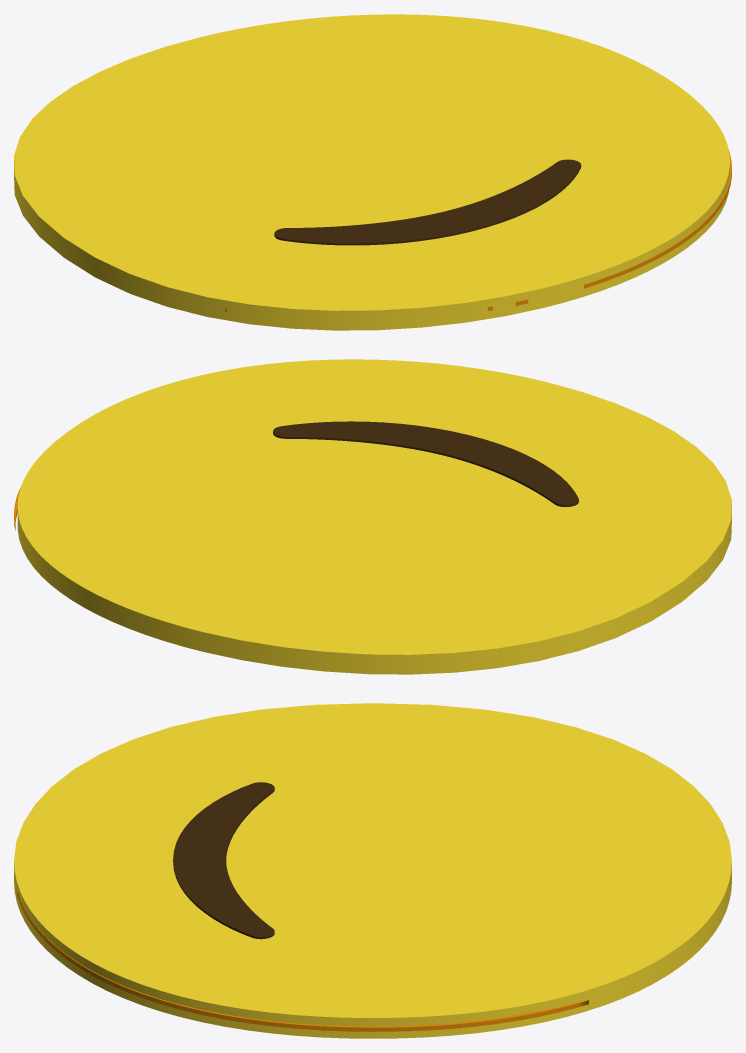
File: emoji_u1f60a.glb
3 renders of one model, top to bottom at view 1: azimuth 30°, elevation 25°; view 2: azimuth 150°, elevation 25°; view 3: azimuth 270°, elevation 25°, orthographic. The views are drawn at different scales.
Visible parts, largest first — view 1: emoji_u1f60a; view 2: emoji_u1f60a; view 3: emoji_u1f60a.
Part boxes in pixels (x1,y1,x2,y2): emoji_u1f60a: [14, 14, 731, 330]; emoji_u1f60a: [14, 359, 731, 674]; emoji_u1f60a: [14, 703, 731, 1038].
Size of the model in its own units: 0.0327 by 0.0012 by 0.0314.
